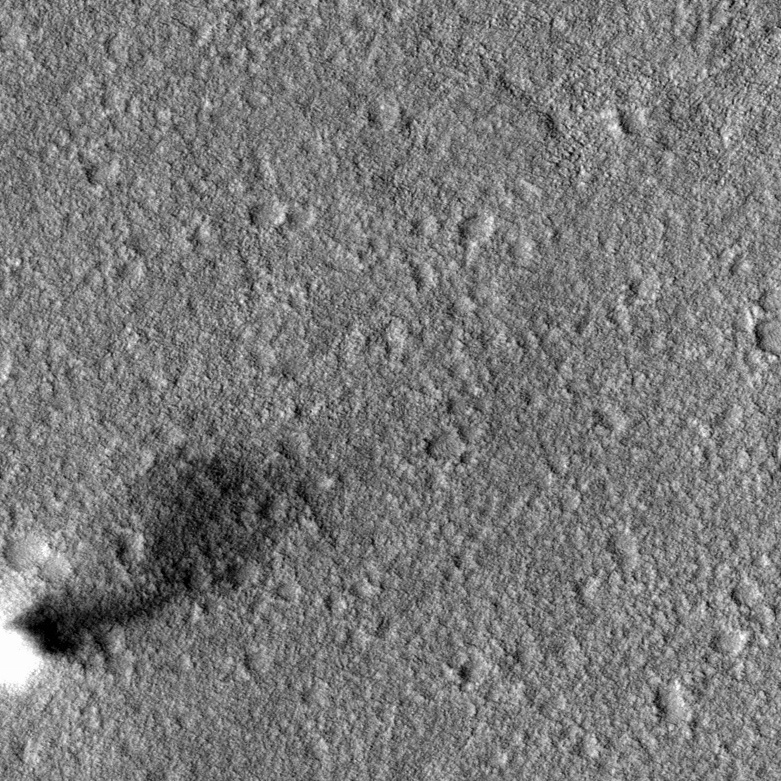dust_devil: (1, 449, 296, 695)
